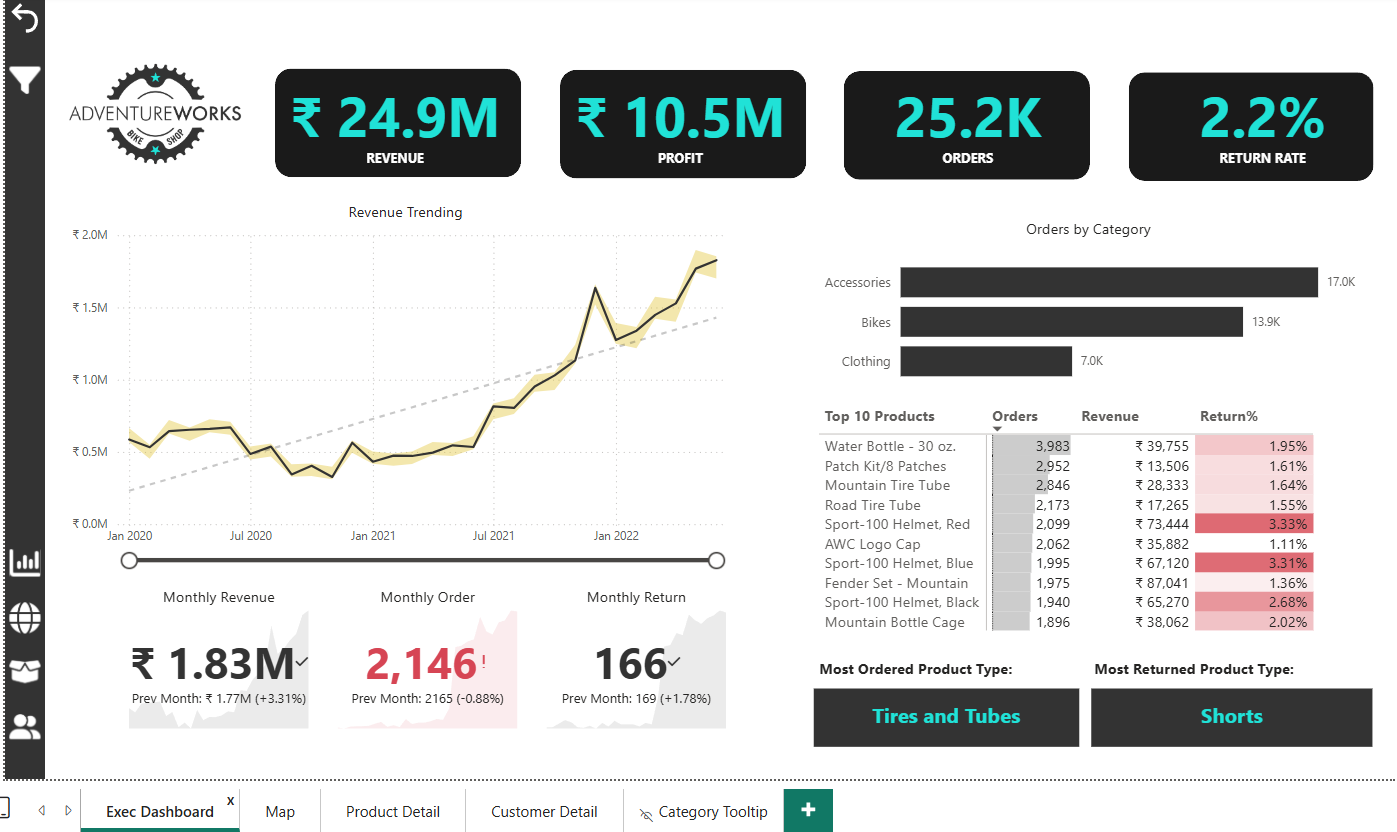

What the dashboard file says about the page in this screenshot:
{"tool":"powerbi","page":{"name":"Exec Dashboard","canvas":[1280,720],"ordinal":0},"visuals":[{"type":"image","title":"AW Logo","box":[36.8,28.7,203.3,159.7],"z":0},{"type":"card","fields":{"Values":["Measure Table.Total Revenue"]},"box":[207.8,28.9,301.5,176],"z":0,"group":"g2"},{"type":"group","id":"g1","title":"KPI Backgrounds","box":[248.2,66.7,1009.7,103.4],"z":0,"group":"g3"},{"type":"shape","box":[248.2,66.7,226.3,99.9],"z":0,"group":"g1"},{"type":"actionButton","box":[0,496.5,36.7,50],"z":0,"group":"g6"},{"type":"card","fields":{"Values":["Min(Product Subcategories Lookup.SubcategoryName)"]},"box":[743.8,636.3,243.8,53.8],"z":0,"group":"g4"},{"type":"card","title":"Most Returned Product Type:","fields":{"Values":["Min(Product Subcategories Lookup.SubcategoryName)"]},"box":[998.8,636.3,258.8,53.8],"z":0,"group":"g5"},{"type":"shape","title":"Left Nav Background","box":[0,0,36.8,720.2],"z":1000},{"type":"group","id":"g2","title":"KPI Values","box":[207.8,28.9,1072,176],"z":1000,"group":"g3"},{"type":"card","fields":{"Values":["Measure Table.Total Profit"]},"box":[505,28.9,230.8,176],"z":1000,"group":"g2"},{"type":"shape","box":[771.2,69,226.3,99.9],"z":1000,"group":"g1"},{"type":"actionButton","box":[0,596.6,36.7,50],"z":1000,"group":"g6"},{"type":"textbox","box":[743.8,603.8,200,41.2],"z":1000,"group":"g4"},{"type":"textbox","box":[996.3,603.8,200,41.2],"z":1000,"group":"g5"},{"type":"group","id":"g3","title":"KPIs","box":[207.8,28.9,1072,176],"z":2000},{"type":"card","fields":{"Values":["Measure Table.Return Rate"]},"box":[1033.1,28.9,246.7,176],"z":2000,"group":"g2"},{"type":"shape","box":[509.7,67.8,226.3,99.9],"z":2000,"group":"g1"},{"type":"group","id":"g4","title":"Group 1","box":[743.8,603.8,243.8,86.2],"z":2000,"group":"g5"},{"type":"actionButton","box":[0,646.6,36.7,50],"z":2000,"group":"g6"},{"type":"card","fields":{"Values":["Measure Table.Total Orders"]},"box":[771.9,28.9,226.5,176],"z":3000,"group":"g2"},{"type":"shape","box":[1032.8,70.1,225.1,99.9],"z":3000,"group":"g1"},{"type":"lineChart","title":"Revenue Trending","fields":{"Y":["Measure Table.Total Revenue"],"Category":["Calendar Lookup.Start of Month"]},"box":[56.3,188.4,623.7,341.2],"z":3000},{"type":"actionButton","box":[0,546.6,36.7,50],"z":3000,"group":"g6"},{"type":"kpi","title":"Monthly Revenue","fields":{"Indicator":["Measure Table.Total Revenue"],"TrendLine":["Calendar Lookup.Date Hierarchy.Start of Month"],"Goal":["Measure Table.Previous Month Revenue"]},"box":[108.8,542.5,175,136.2],"z":4000},{"type":"kpi","title":"Monthly Order","fields":{"TrendLine":["Calendar Lookup.Date Hierarchy.Start of Month"],"Indicator":["Measure Table.Total Orders"],"Goal":["Measure Table.Previous Month Orders"]},"box":[300.6,542.5,175,136.2],"z":5000},{"type":"kpi","title":"Monthly Return","fields":{"TrendLine":["Calendar Lookup.Date Hierarchy.Start of Month"],"Indicator":["Measure Table.Total Returns"],"Goal":["Measure Table.Previous Month Returns"]},"box":[492.5,542.5,175,136.2],"z":6000},{"type":"clusteredBarChart","title":"Orders by Category","fields":{"Category":["Product Categories Lookup.CategoryName"],"Y":["Measure Table.Total Orders"]},"box":[743.8,205,505,166.2],"z":7000},{"type":"pivotTable","fields":{"Values":["Measure Table.Total Orders","Measure Table.Total Revenue","Measure Table.Return Rate"],"Rows":["Product Lookup.ProductName"]},"box":[743.8,371.2,505,232.5],"z":8000},{"type":"group","id":"g5","title":"Group 2","box":[743.8,603.8,513.8,86.2],"z":9000},{"type":"actionButton","box":[0,0,36.8,40.2],"z":10000},{"type":"group","id":"g6","title":"Navigation Buttons","box":[0,496.5,36.7,200.1],"z":11000},{"type":"actionButton","box":[0,57.8,36.7,40],"z":12000}]}

Visuals, with their boxes on the page's 1280x720 design canvas (x1, y1, x2, y2). These are canvas units, not pixel positions in the 1397x832 screenshot, which may show the page scaled, cropped or inside an application window:
"AW Logo" image: bbox(37, 29, 240, 188)
card - Measure Table.Total Revenue: bbox(208, 29, 509, 205)
"KPI Backgrounds" group: bbox(248, 67, 1258, 170)
shape: bbox(248, 67, 474, 167)
actionButton: bbox(0, 496, 37, 546)
card - Min(Product Subcategories Lookup.SubcategoryName): bbox(744, 636, 988, 690)
"Most Returned Product Type:" card: bbox(999, 636, 1258, 690)
"Left Nav Background" shape: bbox(0, 0, 37, 720)
"KPI Values" group: bbox(208, 29, 1280, 205)
card - Measure Table.Total Profit: bbox(505, 29, 736, 205)
shape: bbox(771, 69, 998, 169)
actionButton: bbox(0, 597, 37, 647)
textbox: bbox(744, 604, 944, 645)
textbox: bbox(996, 604, 1196, 645)
"KPIs" group: bbox(208, 29, 1280, 205)
card - Measure Table.Return Rate: bbox(1033, 29, 1280, 205)
shape: bbox(510, 68, 736, 168)
"Group 1" group: bbox(744, 604, 988, 690)
actionButton: bbox(0, 647, 37, 697)
card - Measure Table.Total Orders: bbox(772, 29, 998, 205)
shape: bbox(1033, 70, 1258, 170)
"Revenue Trending" lineChart: bbox(56, 188, 680, 530)
actionButton: bbox(0, 547, 37, 597)
"Monthly Revenue" kpi: bbox(109, 542, 284, 679)
"Monthly Order" kpi: bbox(301, 542, 476, 679)
"Monthly Return" kpi: bbox(492, 542, 668, 679)
"Orders by Category" clusteredBarChart: bbox(744, 205, 1249, 371)
pivotTable - Measure Table.Total Orders x Measure Table.Total Revenue: bbox(744, 371, 1249, 604)
"Group 2" group: bbox(744, 604, 1258, 690)
actionButton: bbox(0, 0, 37, 40)
"Navigation Buttons" group: bbox(0, 496, 37, 697)
actionButton: bbox(0, 58, 37, 98)
